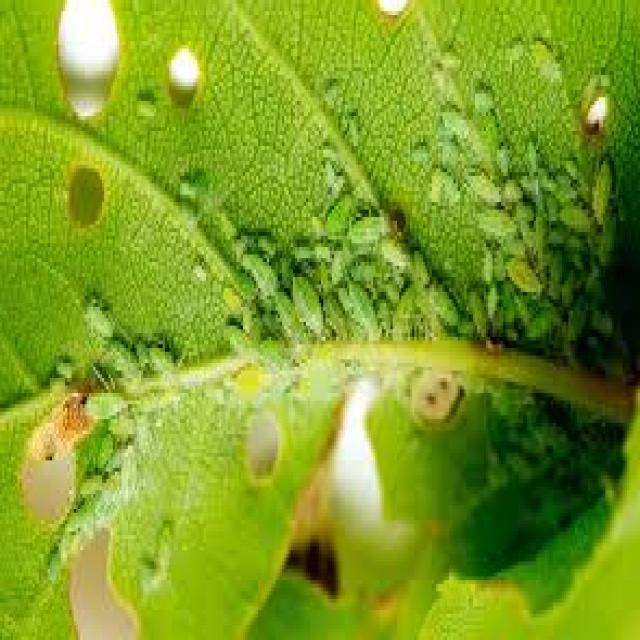aphid: (78, 366, 136, 431), (286, 270, 332, 348), (590, 191, 629, 281), (527, 26, 573, 101), (501, 247, 551, 311), (421, 273, 468, 337), (349, 273, 388, 348), (590, 150, 622, 236), (78, 292, 122, 352), (531, 412, 575, 472), (464, 164, 510, 220), (520, 300, 564, 356), (347, 202, 393, 255), (230, 363, 276, 415), (562, 288, 599, 352), (240, 255, 286, 303), (462, 284, 494, 352), (555, 198, 599, 246), (145, 341, 189, 389), (222, 318, 260, 371), (456, 367, 494, 419), (341, 104, 371, 164), (120, 442, 144, 512), (434, 38, 468, 86), (317, 72, 351, 120), (274, 288, 304, 340), (154, 524, 180, 584), (441, 101, 475, 146), (410, 243, 438, 296), (469, 82, 503, 124), (134, 86, 162, 131), (408, 135, 436, 176), (43, 543, 65, 591), (523, 138, 547, 180), (506, 37, 532, 75), (80, 468, 106, 506), (54, 356, 80, 390), (178, 172, 200, 210), (191, 258, 213, 296), (319, 138, 343, 172), (48, 374, 70, 400)
